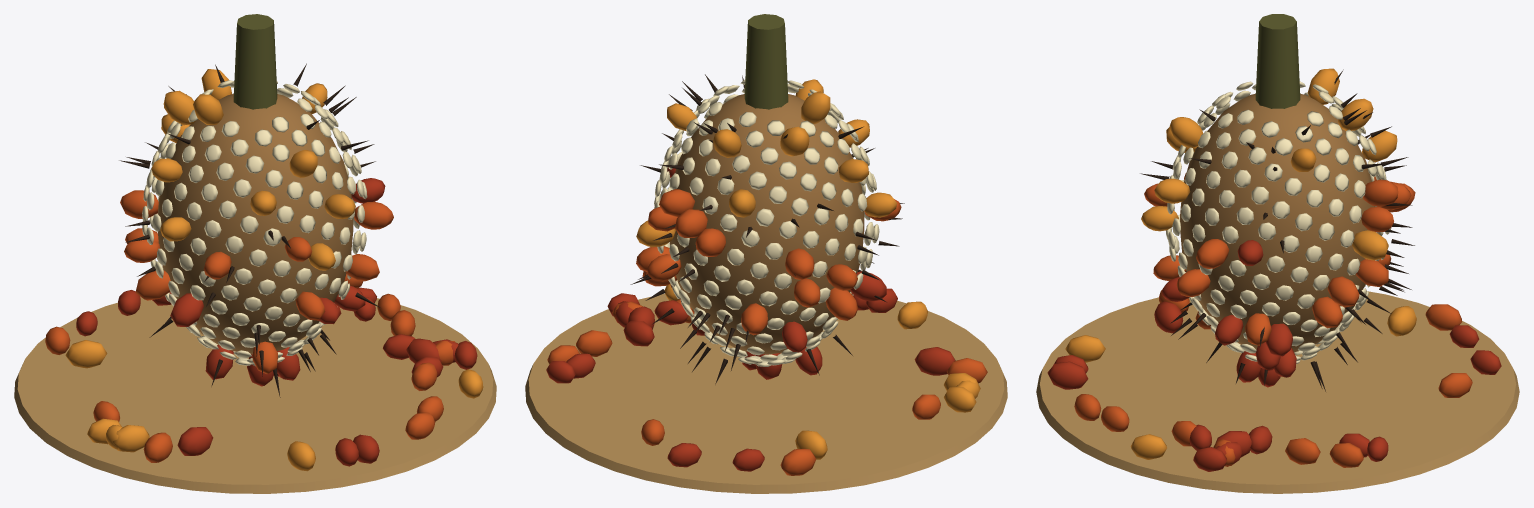
Rendered from tbs-f4.glb.
3 views of the same model, side by side, from view 1: azimuth 30°, elevation 25°; view 2: azimuth 150°, elevation 25°; view 3: azimuth 270°, elevation 25° (orthographic).
Visible parts, largest first — view 1: TBS_fraksi_4; view 2: TBS_fraksi_4; view 3: TBS_fraksi_4.
Part boxes in pixels (box(x1,y1,x2,y2)): TBS_fraksi_4: box(14, 14, 496, 493); TBS_fraksi_4: box(525, 14, 1007, 493); TBS_fraksi_4: box(1036, 14, 1519, 493).
Size of the model in its own units: 0.69 by 0.583 by 0.69.
